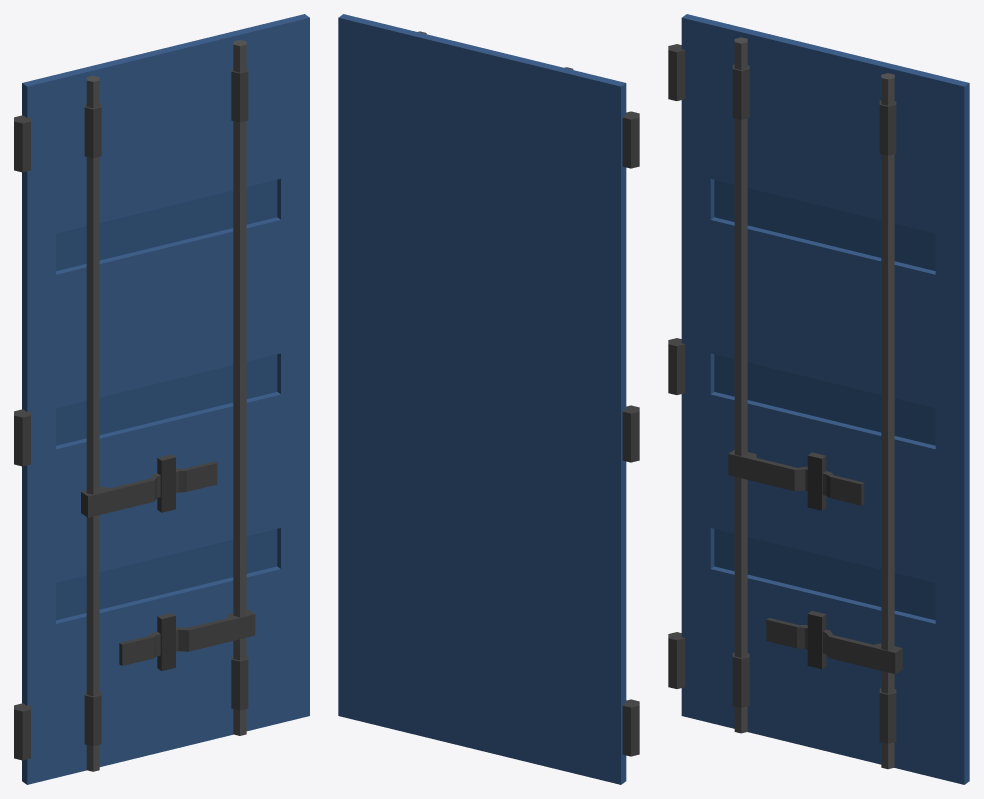
The model's file is ShippingContainer_Door3_L.fbx.
The picture shows the model from 3 angles, left to right: view 1: azimuth 30°, elevation 25°; view 2: azimuth 150°, elevation 25°; view 3: azimuth 330°, elevation 25°; orthographic projection.
Visible parts, largest first — view 1: ShippingContainer_Door3_L; view 2: ShippingContainer_Door3_L; view 3: ShippingContainer_Door3_L.
Boxes of the visible parts, x1,y1,x2,y2 form: ShippingContainer_Door3_L: [14, 14, 309, 784]; ShippingContainer_Door3_L: [338, 14, 639, 784]; ShippingContainer_Door3_L: [668, 14, 969, 784].
Bounding box in the file's own units: 117 × 263 × 8.59.
